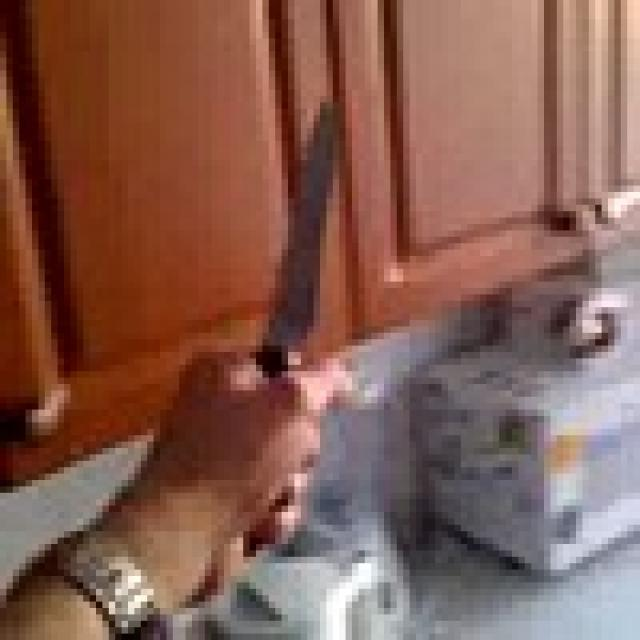Knife: (262, 96, 352, 365)
